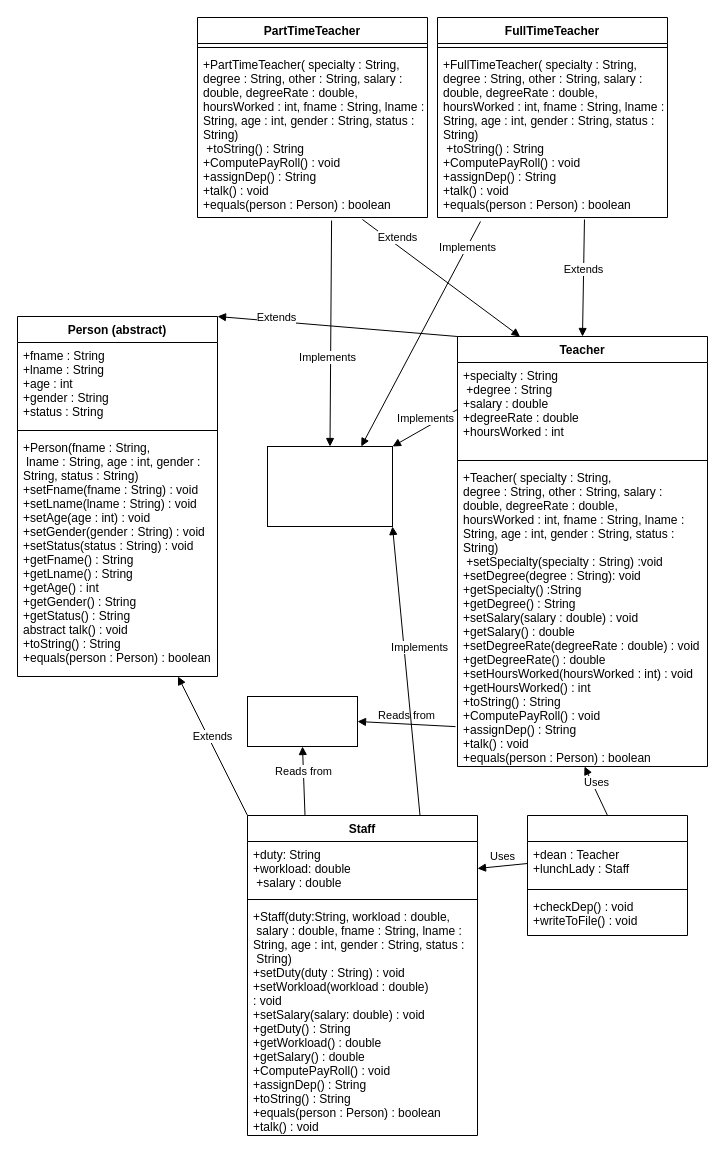
The diagram is 725 pixels wide and 1156 high, and some of its shapes have lost their labels. Each missing label, with the box of its shape:
Department: (526, 814, 688, 936)
File : Departments: (246, 696, 358, 746)
«interface» PayRoll +ComputePayRoll(): (266, 446, 392, 526)
